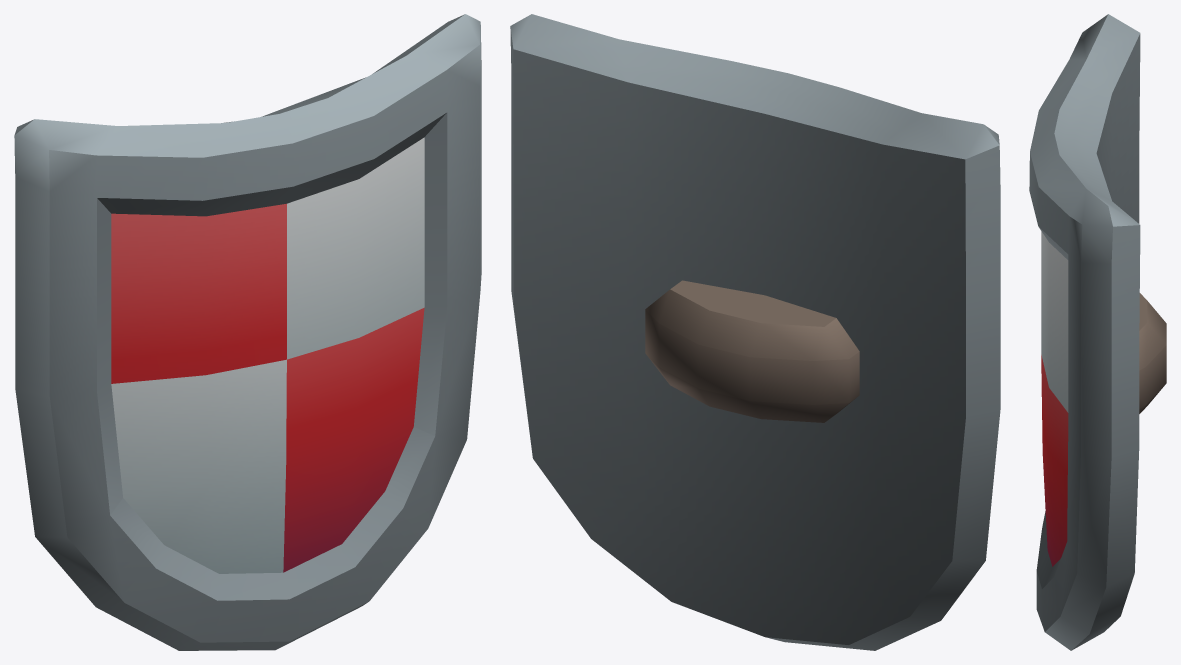
3 views of the same model, side by side, from view 1: azimuth 30°, elevation 25°; view 2: azimuth 150°, elevation 25°; view 3: azimuth 270°, elevation 25° (orthographic). The views are drawn at different scales.
Visible parts, largest first — view 1: shield_badge_color; view 2: shield_badge_color; view 3: shield_badge_color.
Part boxes in pixels (x1,y1,x2,y2): shield_badge_color: [14, 14, 481, 650]; shield_badge_color: [510, 14, 1000, 650]; shield_badge_color: [1029, 14, 1166, 650].
Bounding box in the file's own units: 0.8826 × 1.02 × 0.2459.
1 material, 1 textured.
